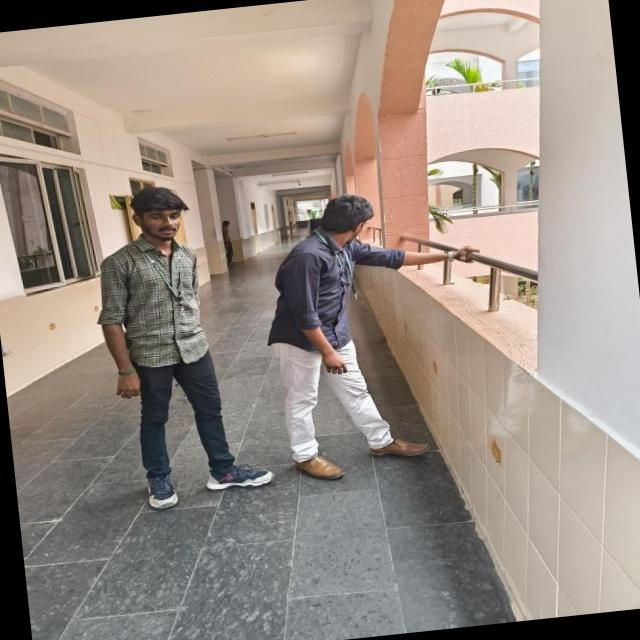id_card: (145, 229, 188, 317), (329, 228, 356, 306)
